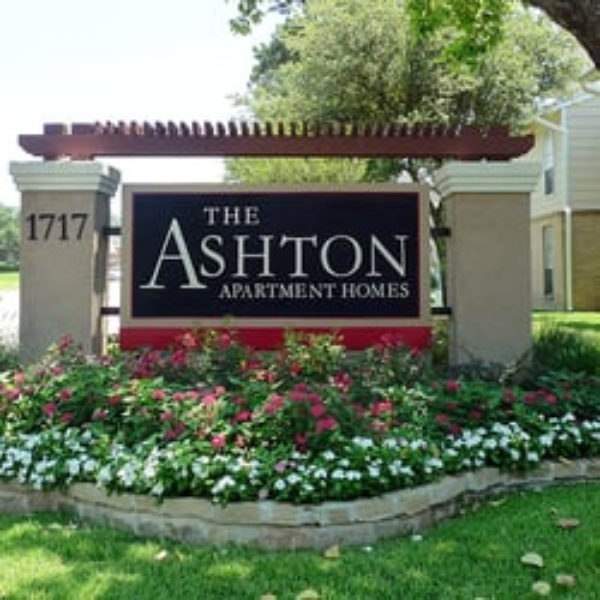text: (145, 214, 160, 293), (161, 214, 176, 293), (177, 214, 192, 293), (193, 214, 208, 293), (209, 214, 224, 293), (225, 214, 240, 293), (241, 214, 256, 293), (257, 214, 272, 293), (273, 214, 288, 293), (289, 214, 304, 293), (305, 214, 320, 293), (321, 214, 336, 293), (337, 214, 352, 293), (353, 214, 368, 293), (369, 214, 384, 293), (385, 214, 400, 293), (401, 214, 409, 293), (137, 214, 144, 293), (33, 212, 48, 243), (49, 212, 64, 243), (65, 212, 80, 243), (321, 281, 337, 301), (225, 281, 240, 301), (241, 281, 256, 301), (257, 281, 272, 301), (273, 281, 288, 301), (289, 281, 304, 301), (305, 281, 320, 301), (209, 205, 224, 224), (225, 205, 240, 224), (241, 205, 256, 224), (353, 281, 368, 298), (369, 281, 384, 298), (385, 281, 400, 298), (81, 212, 89, 243), (25, 212, 32, 243), (341, 281, 352, 298), (401, 281, 409, 298), (202, 205, 208, 224), (219, 281, 224, 301), (257, 205, 260, 224)
